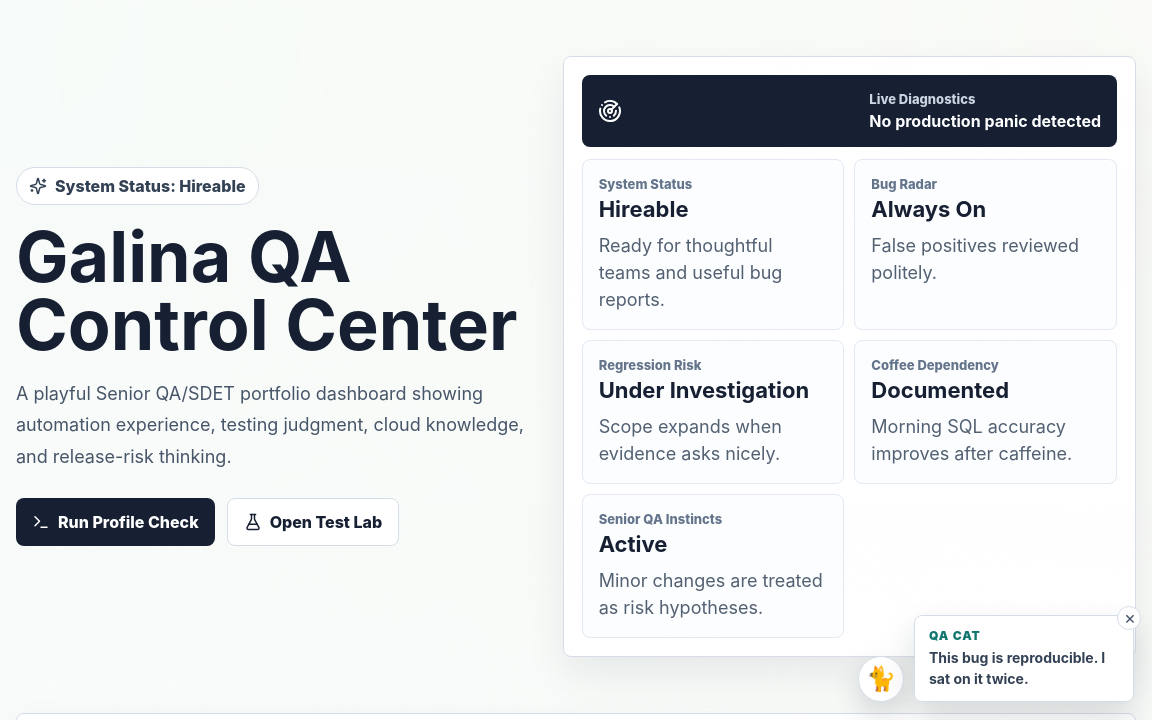
Galina QA Control Center UI › minimizes the QA Cat widget to a compact control
This screenshot has width=1152, height=720.
What coordinates should you click on to do the following:
click the button named "Minimize QA Cat"
I would click on:
 (1129, 618)
Its box is [1117,606,1141,630].
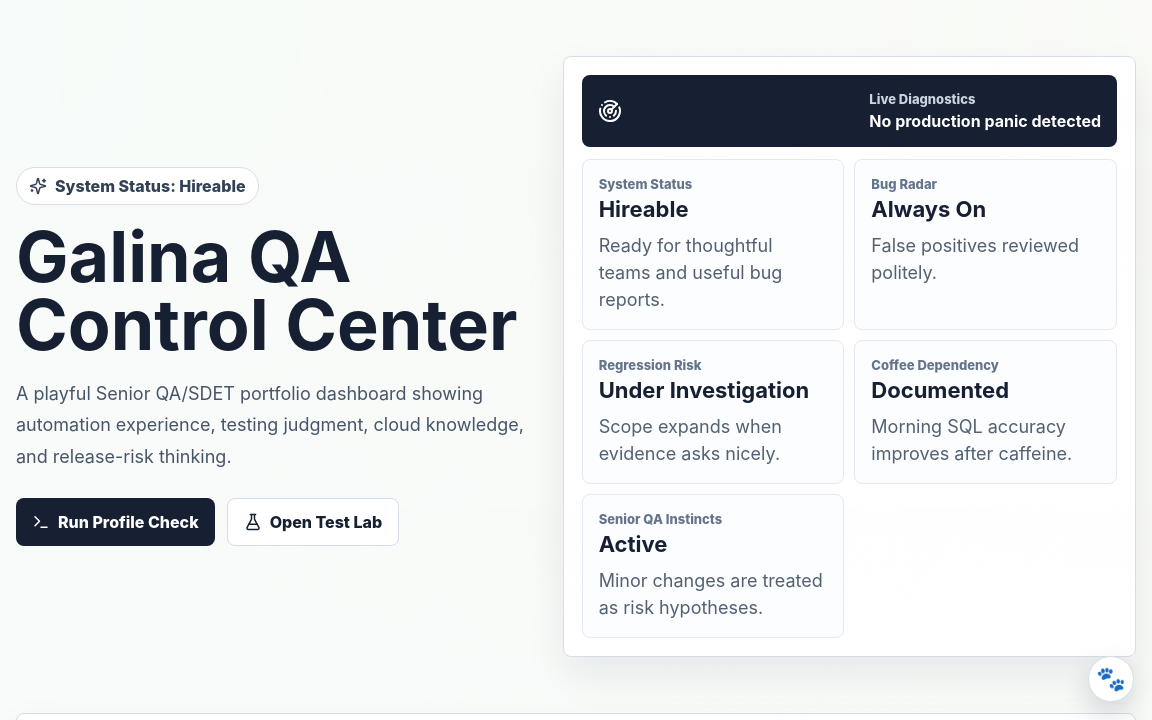
Check: the button named "Show QA Cat" is shown, box [1088,656,1134,702]
